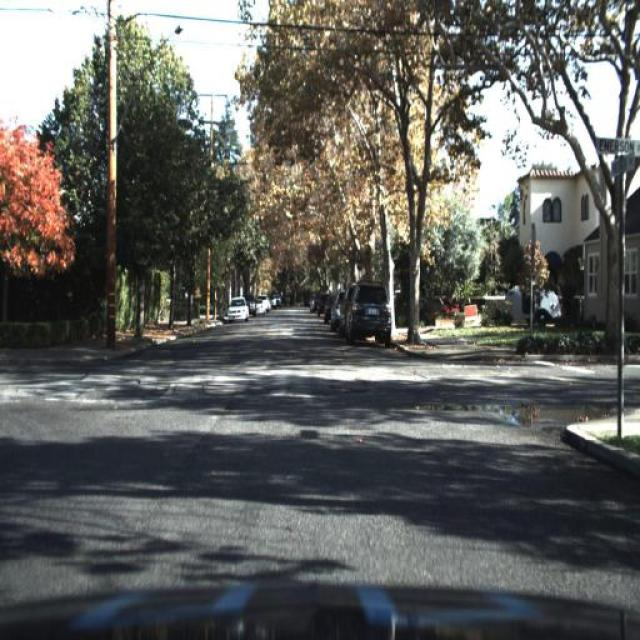car: (498, 276, 566, 332), (345, 274, 390, 350), (223, 294, 252, 324), (224, 296, 248, 323)
